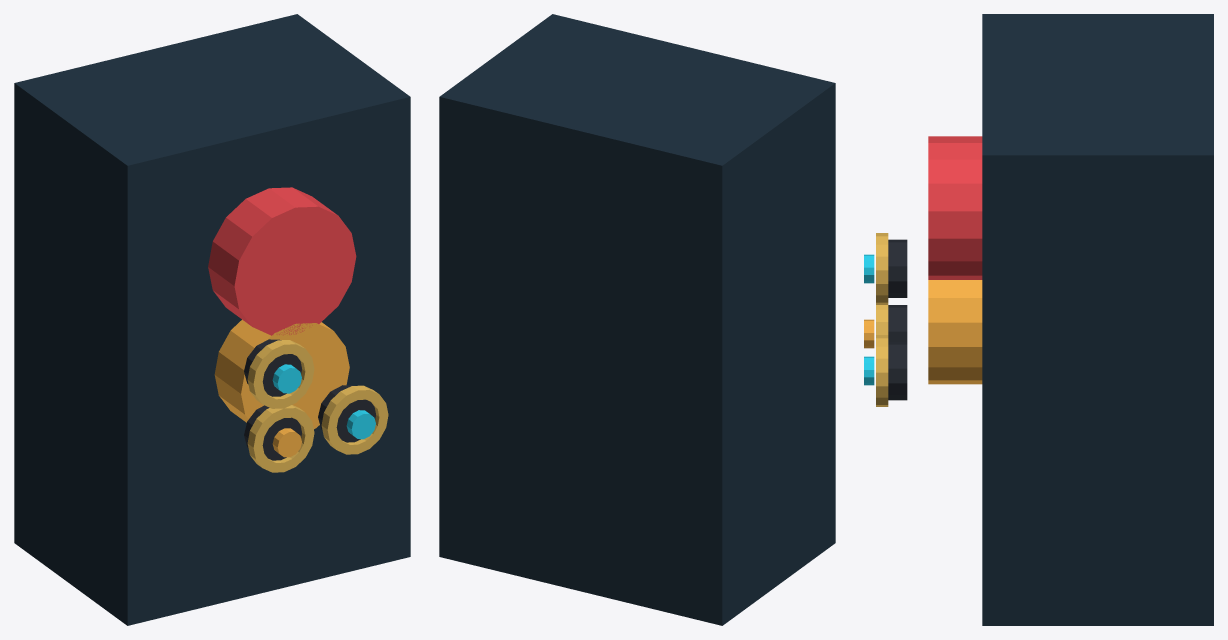
Rendered from 49_L82_ChamberDoorInterlockSwitch.fbx.
3 renders of one model, left to right at view 1: azimuth 30°, elevation 25°; view 2: azimuth 150°, elevation 25°; view 3: azimuth 270°, elevation 25°, orthographic. The views are drawn at different scales.
Parts seen in each view (by area): view 1: ChamberDoorInterlockSwitch, ChamberDoorInterlockSwitch_Part_0003; view 2: ChamberDoorInterlockSwitch; view 3: ChamberDoorInterlockSwitch, ChamberDoorInterlockSwitch_Part_0003.
Part boxes in pixels (x1,y1,x2,y2): ChamberDoorInterlockSwitch: (14,14,410,625); ChamberDoorInterlockSwitch_Part_0003: (214,319,349,428); ChamberDoorInterlockSwitch: (439,14,835,625); ChamberDoorInterlockSwitch: (864,14,1213,625); ChamberDoorInterlockSwitch_Part_0003: (928,280,982,384).
Size of the model in its own units: 65 by 101 by 68.
